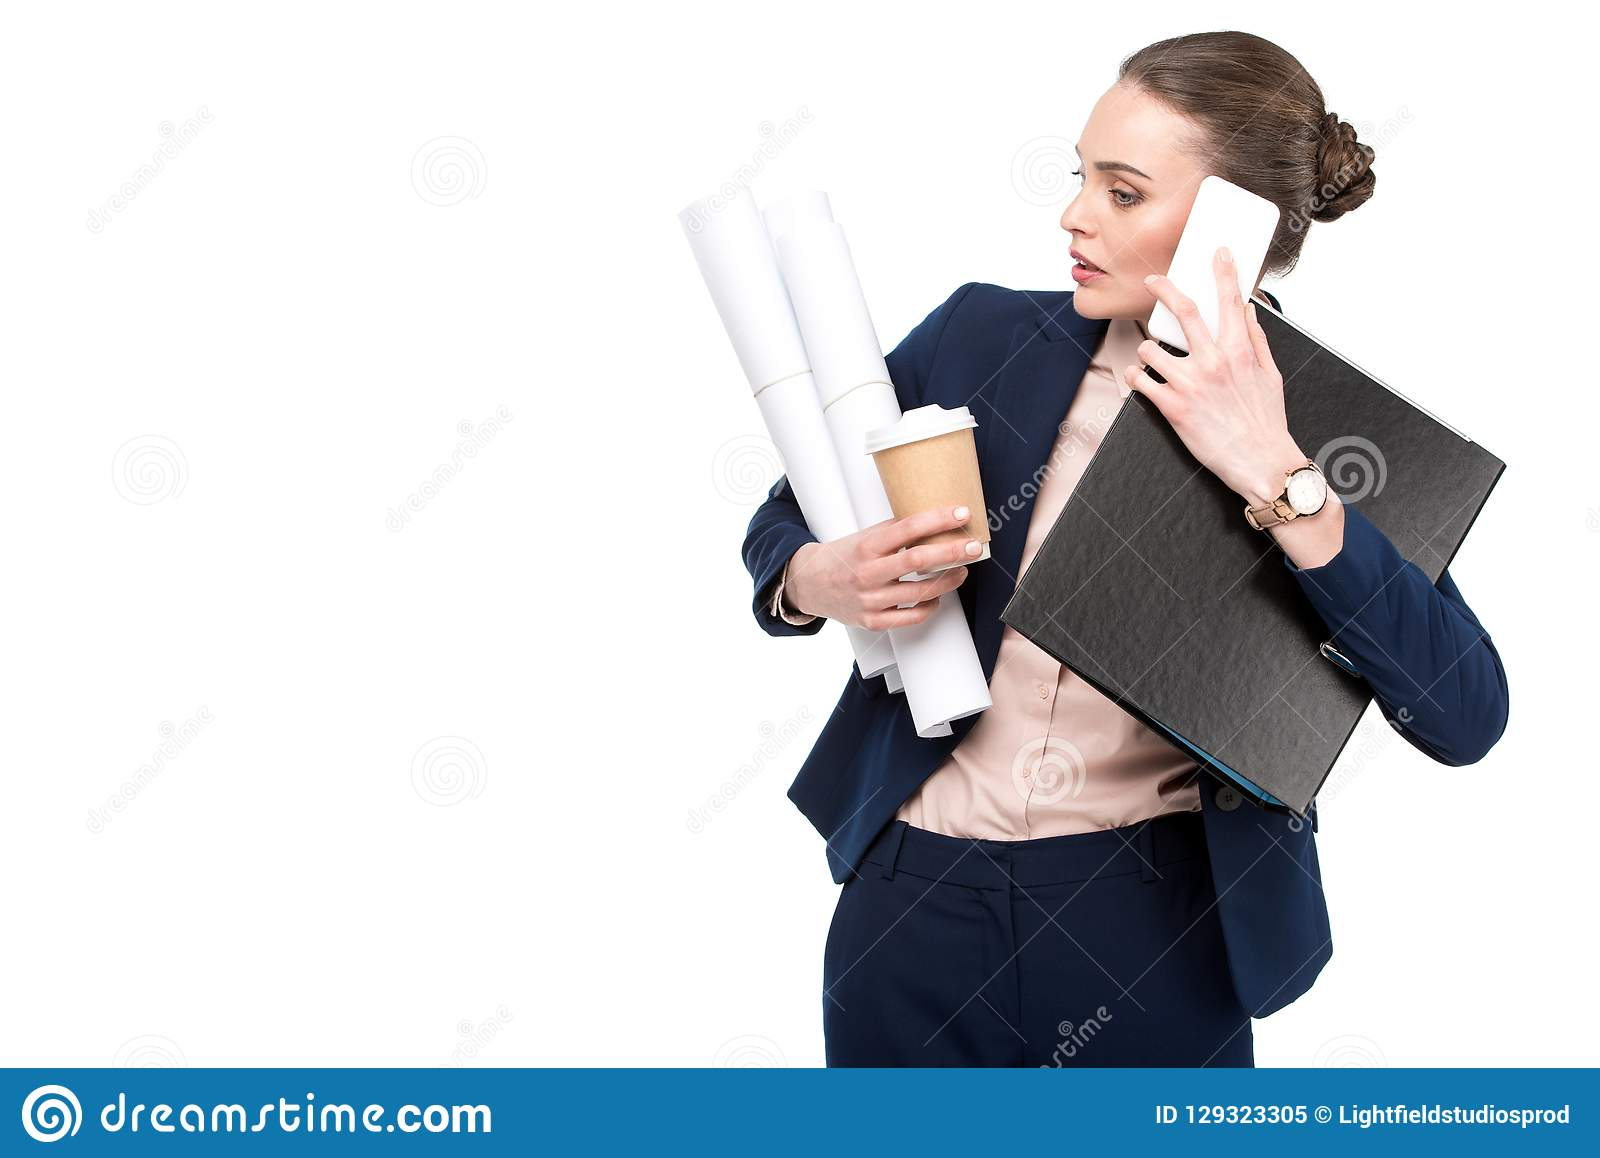phone: (1142, 171, 1282, 355)
talk: (1058, 134, 1308, 487)
